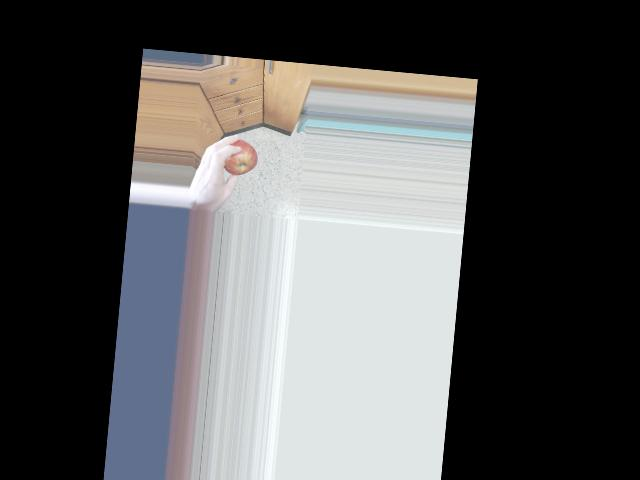apple: (216, 133, 260, 179)
